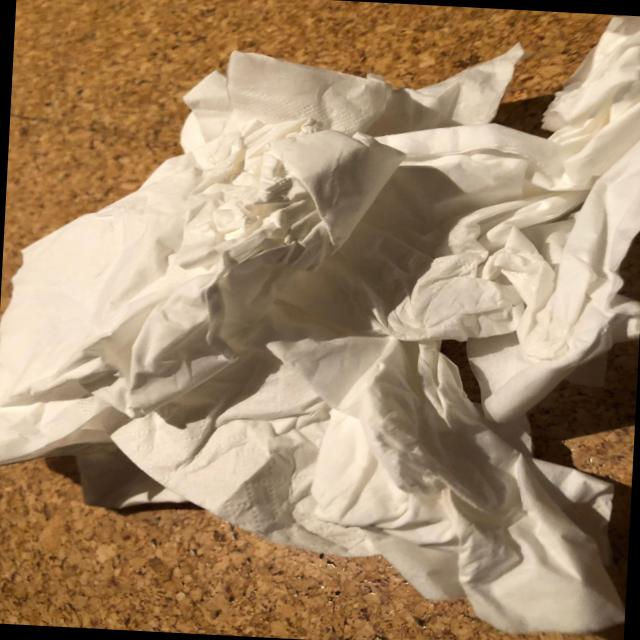organic waste: (0, 36, 405, 473), (96, 317, 639, 640), (353, 2, 640, 428)
